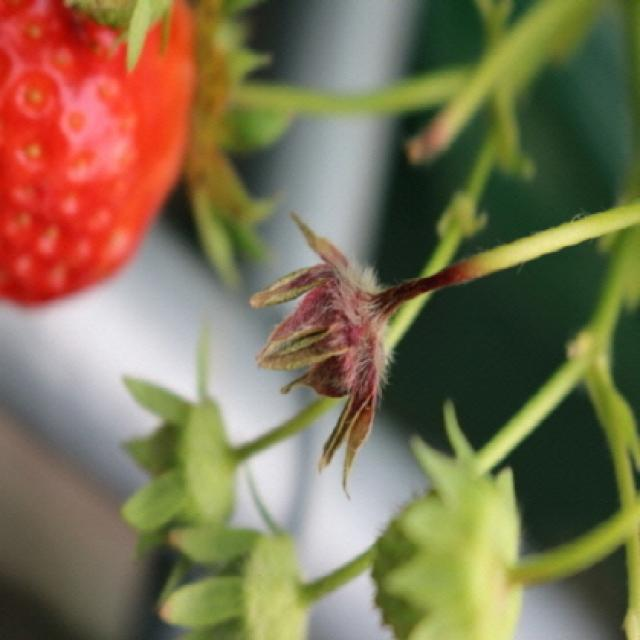Gray Mold: (245, 213, 465, 499)
